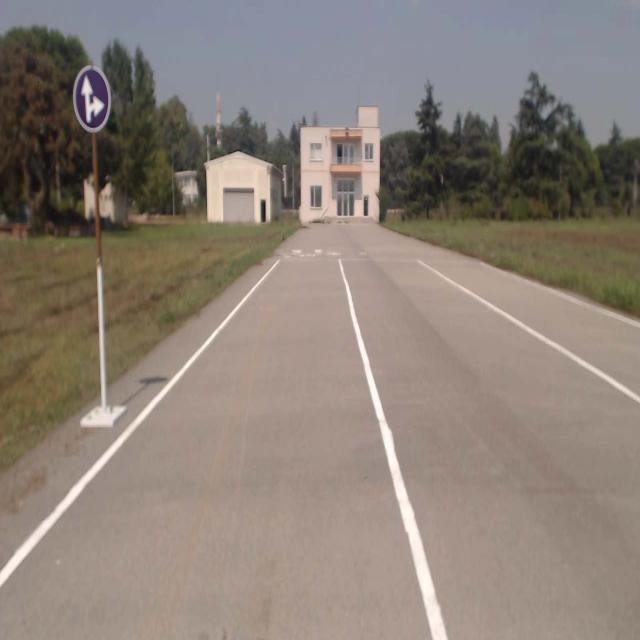ilerisag: (74, 66, 112, 130)
